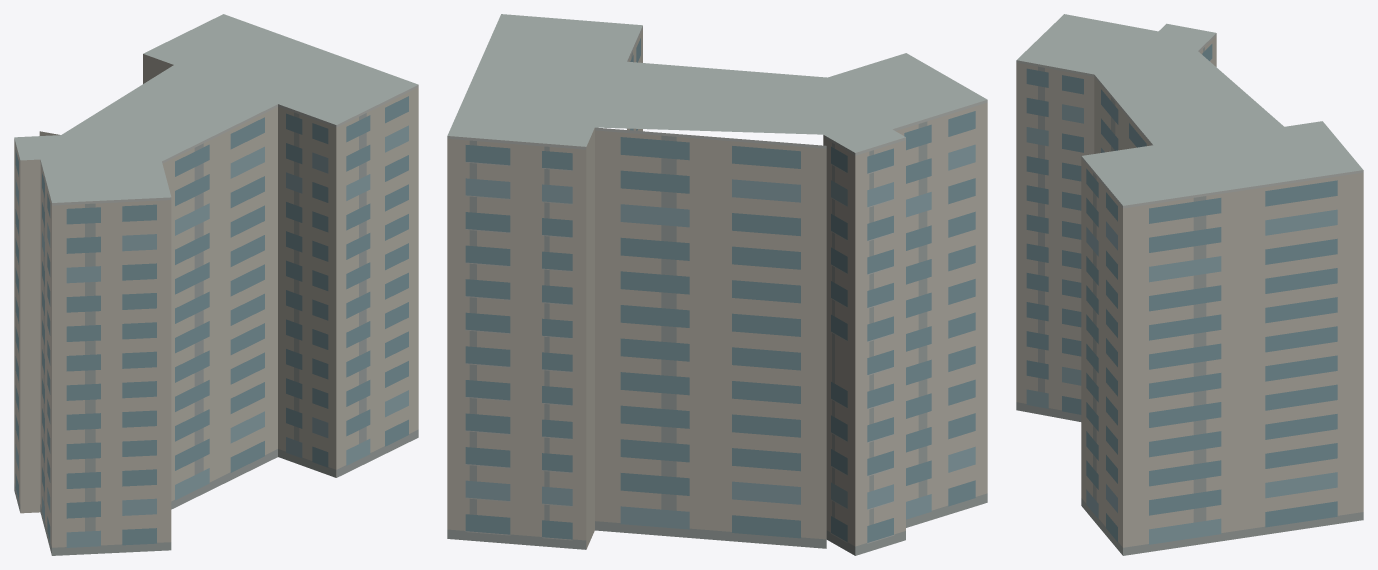
Rendered from residential-bd94928c-9c44-4a9b-bbdc-4f3eb6233761.glb.
3 renders of one model, left to right at view 1: azimuth 30°, elevation 25°; view 2: azimuth 150°, elevation 25°; view 3: azimuth 270°, elevation 25°, orthographic. The views are drawn at different scales.
Parts seen in each view (by area): view 1: residential-bd94928c-9c44-4a9b-bbdc-4f3eb6233761.tmp; view 2: residential-bd94928c-9c44-4a9b-bbdc-4f3eb6233761.tmp; view 3: residential-bd94928c-9c44-4a9b-bbdc-4f3eb6233761.tmp.
Boxes of the visible parts, x1=… form: residential-bd94928c-9c44-4a9b-bbdc-4f3eb6233761.tmp: x1=14, y1=14, x2=418, y2=555; residential-bd94928c-9c44-4a9b-bbdc-4f3eb6233761.tmp: x1=447, y1=14, x2=987, y2=555; residential-bd94928c-9c44-4a9b-bbdc-4f3eb6233761.tmp: x1=1016, y1=14, x2=1363, y2=555.
Bounding box in the file's own units: 39.98 × 34 × 30.56.
